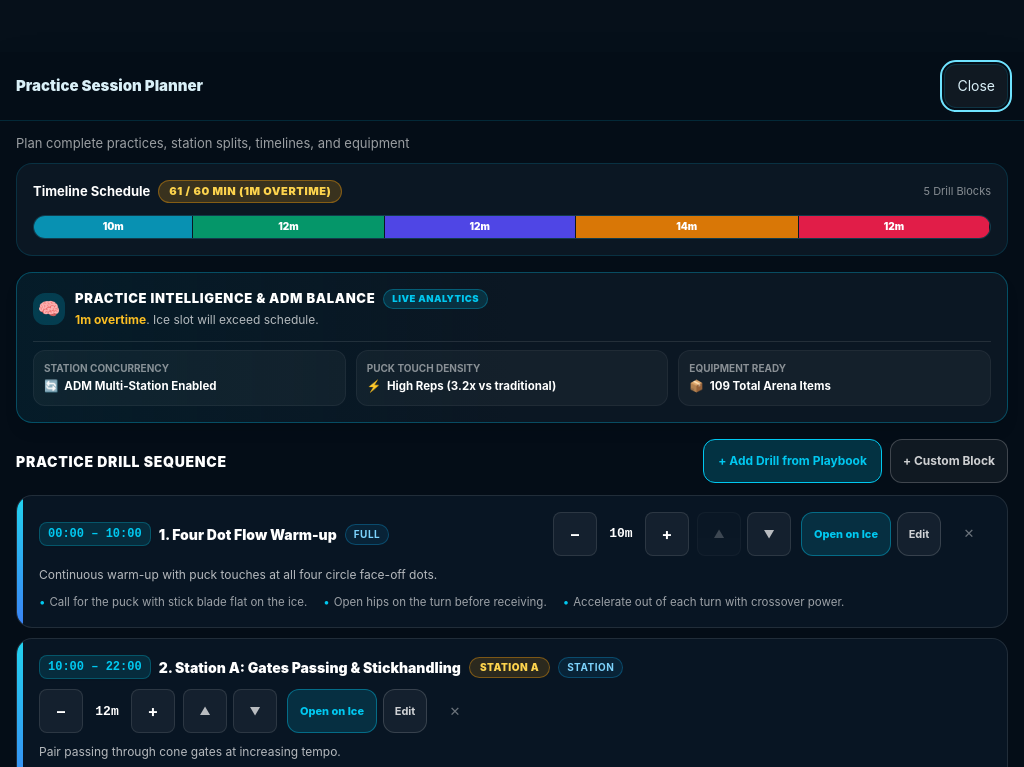
Test case: PracticePage › can add a custom block to the practice session
The width and height of the screenshot is (1024, 767).
(page scrolled)
Step 1. Click the button "+ Custom Block" → (949, 461), box [890, 439, 1008, 483]
(page scrolled)
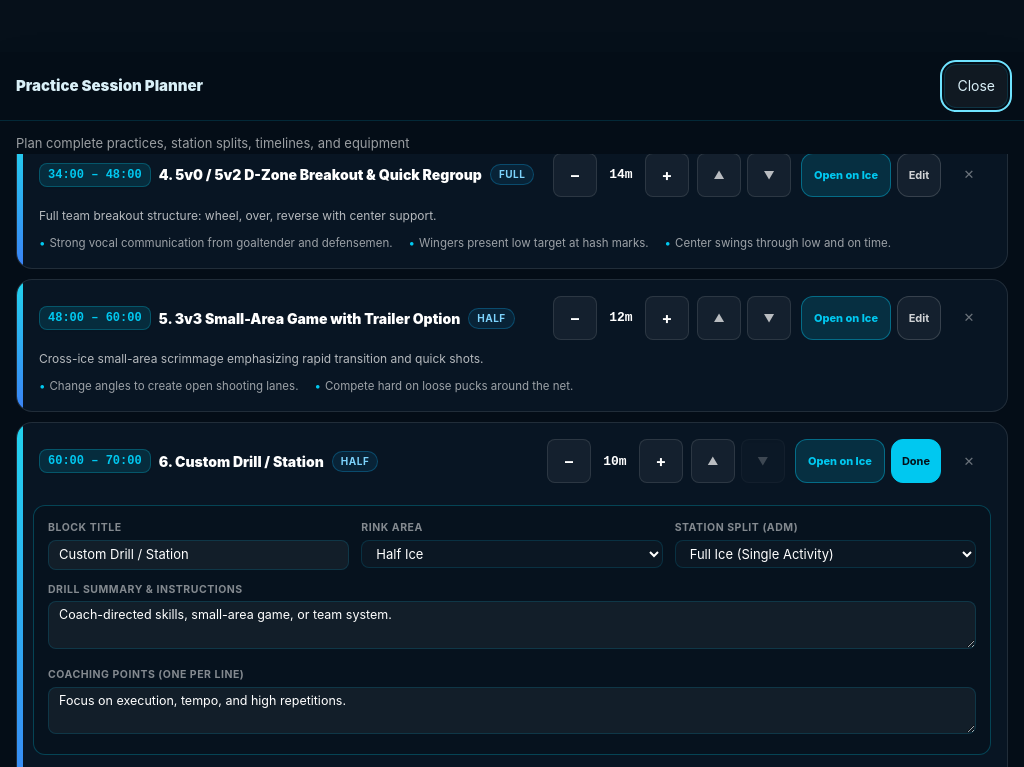
Expected: the text "6. Custom Drill / Station" is shown, [159, 451, 324, 472]
